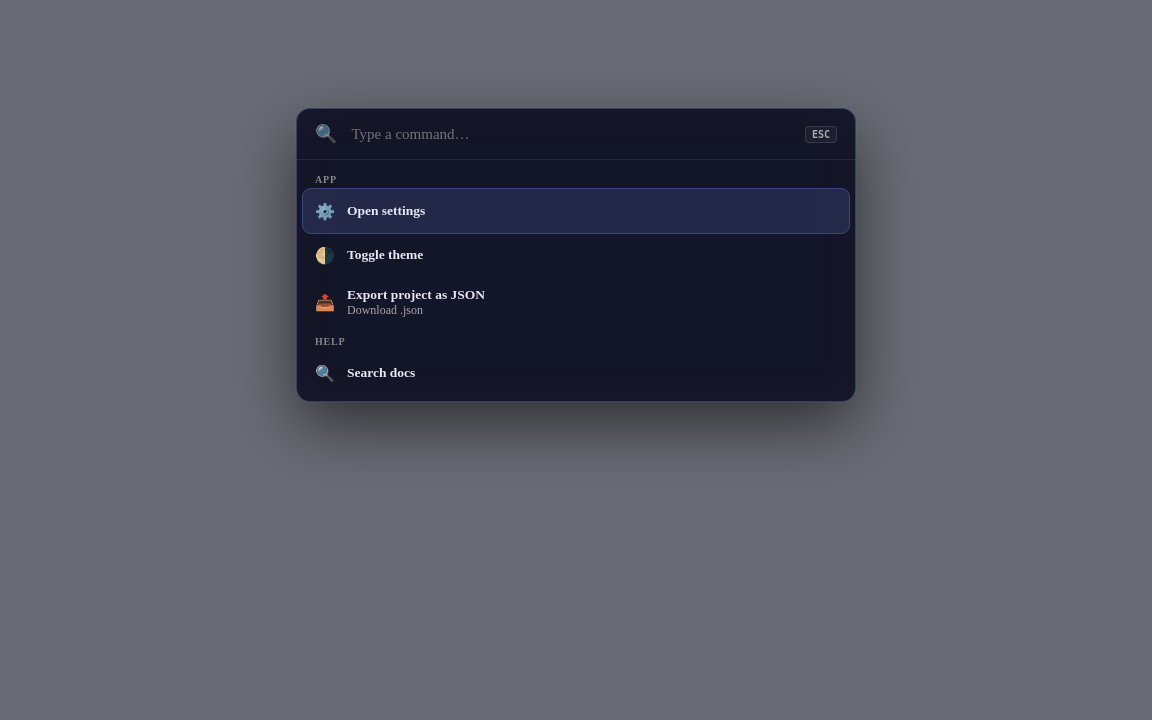
Test: TkxCommandPalette › shows the empty state when nothing matches
Type "qqqq" into the dropdown with test id "cmdk-input" at (571, 134), box [350,124,793,144]
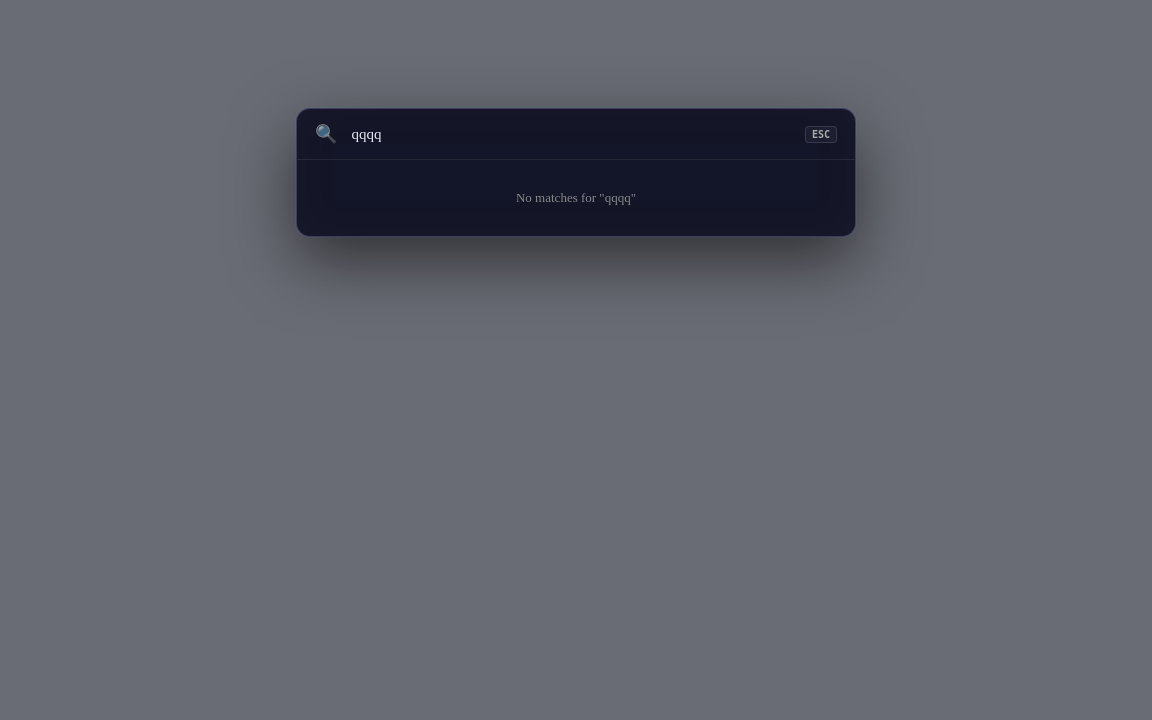
Expected: the list item with test id "cmdk-empty" is shown, [516,190,636,205]
